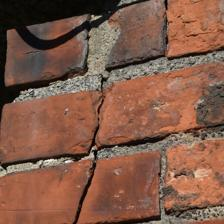Crack: (37, 37, 78, 185)
